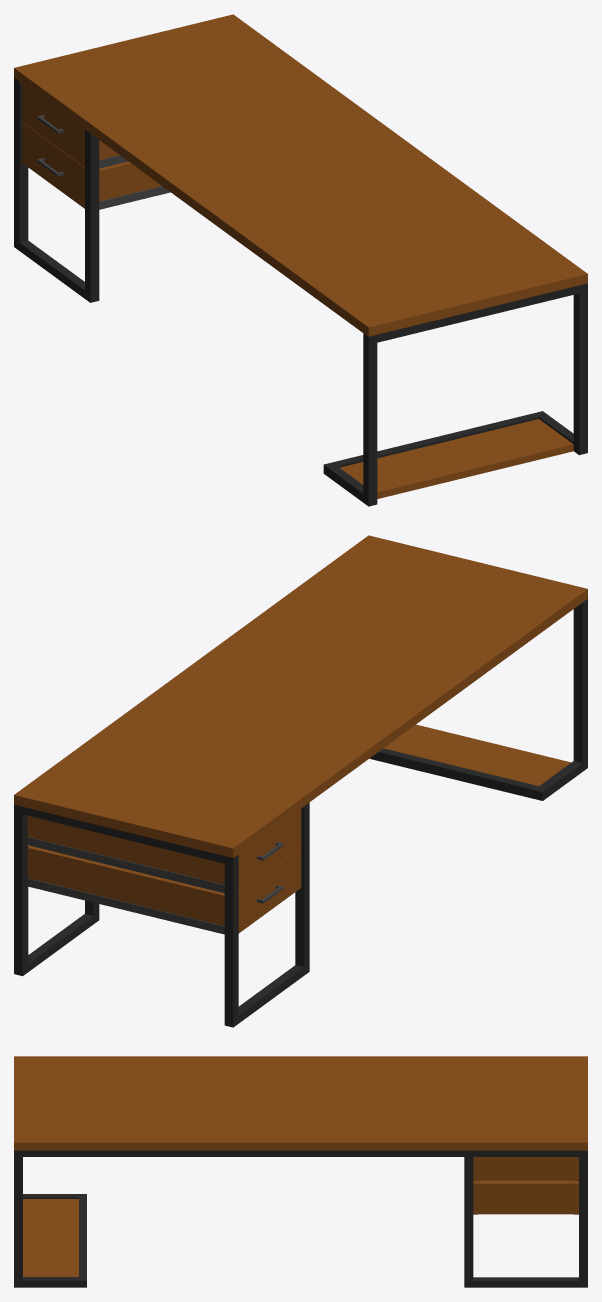
Rendered from ComputerDeskF.fbx.
The picture shows the model from 3 angles, top to bottom: view 1: azimuth 30°, elevation 25°; view 2: azimuth 150°, elevation 25°; view 3: azimuth 270°, elevation 25°; orthographic projection. The views are drawn at different scales.
Visible parts, largest first — view 1: Cube, Cube.001, Cube.002; view 2: Cube, Cube.001, Cube.002; view 3: Cube, Cube.001.
Boxes of the visible parts, x1=… form: Cube: x1=14, y1=14, x2=587, y2=498; Cube.001: x1=14, y1=78, x2=587, y2=506; Cube.002: x1=37, y1=115, x2=170, y2=209; Cube: x1=14, y1=535, x2=587, y2=933; Cube.001: x1=14, y1=599, x2=587, y2=1027; Cube.002: x1=27, y1=837, x2=283, y2=934; Cube: x1=14, y1=1056, x2=587, y2=1276; Cube.001: x1=14, y1=1150, x2=587, y2=1287.
Size of the model in its own units: 254 by 195 by 700.
